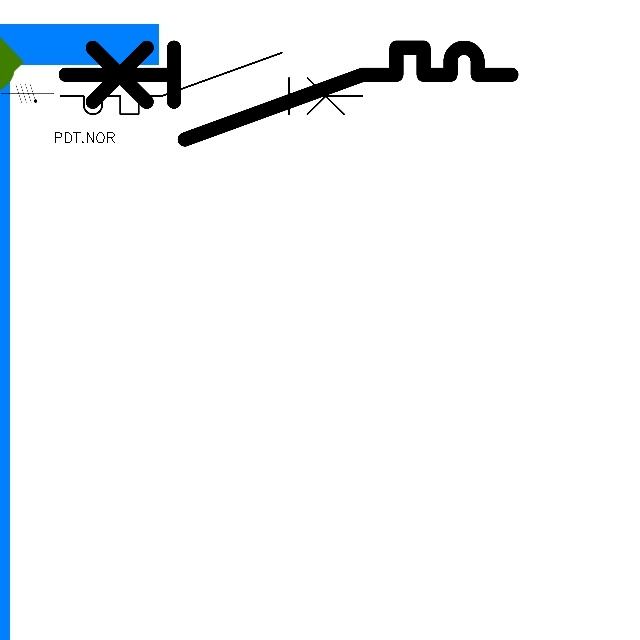interruptor_termomagnetico: (54, 36, 523, 151), (53, 45, 370, 122)
